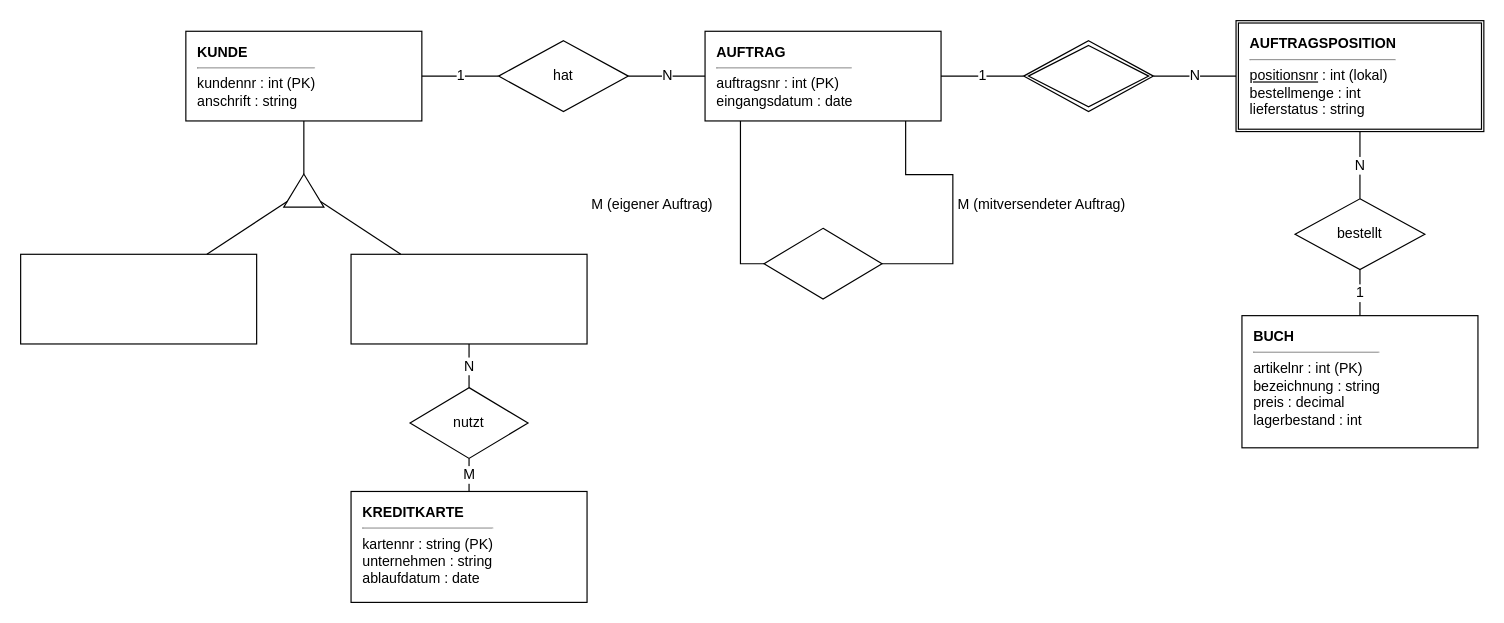
The diagram is 1504 pixels wide and 623 high, and some of its shapes have lost their labels. Each missing label, with the centre of its shape:
HAENDLER unternehmensname : string zahlungsziel_tage : int: the point at 138,298
PRIVATKUNDE vorname : string nachname : string: the point at 468,298
umfasst: the point at 1087,76
versandt mit: the point at 822,263
